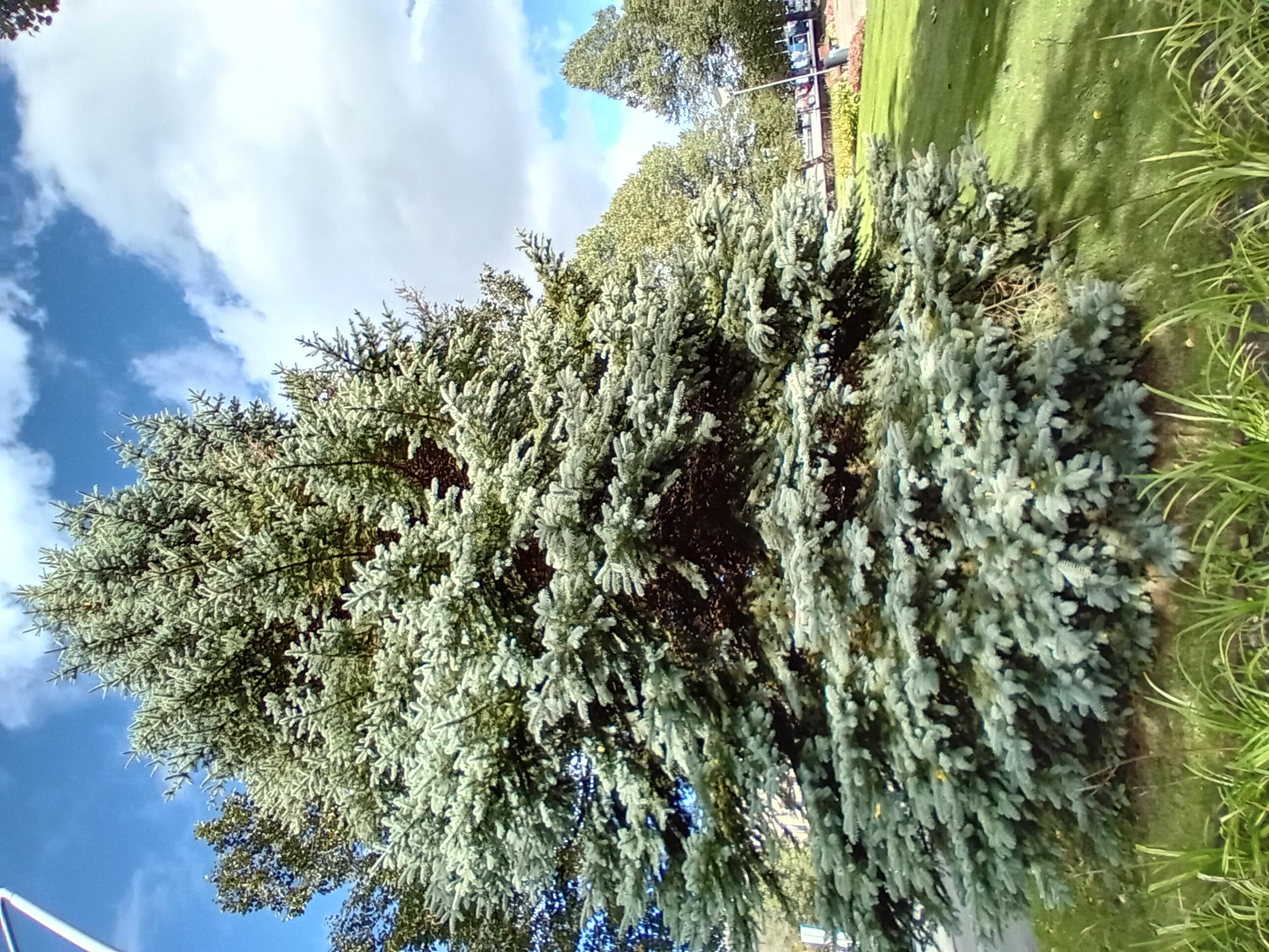Spruce: (1, 7, 1109, 896)
